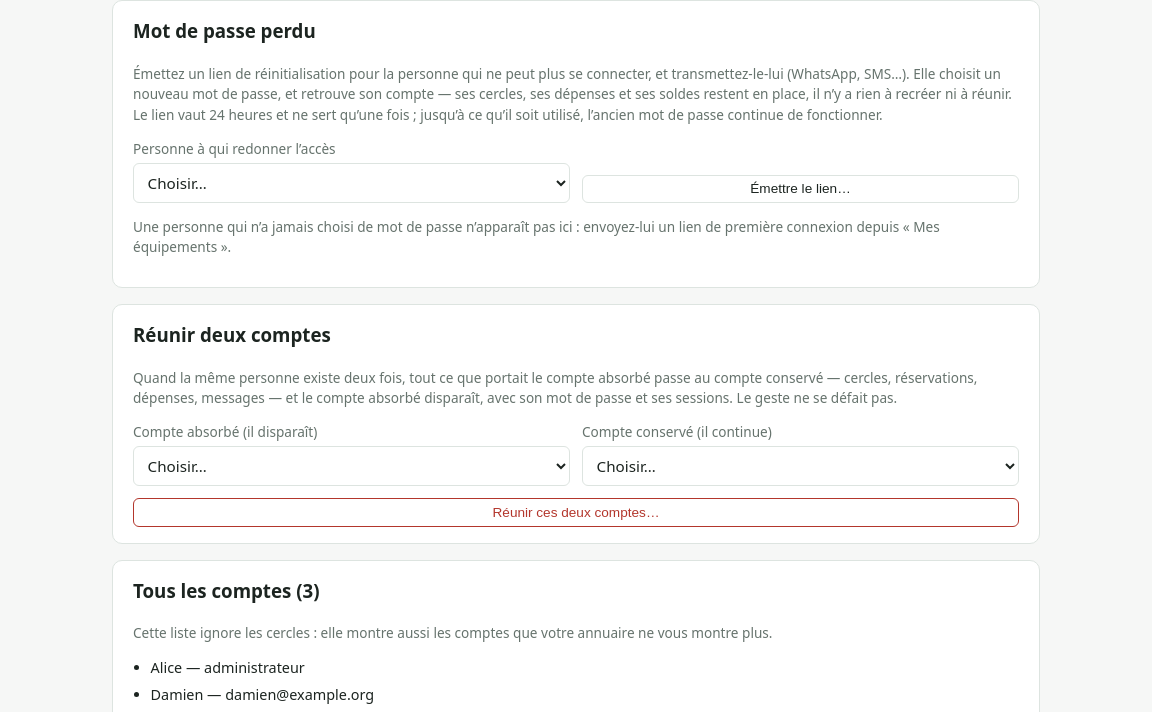
Écran d’administration › affiche le refus du serveur sans rien prétendre avoir fait
This screenshot has width=1152, height=712.
Check: the heading "Tous les comptes (3)" is shown, box [133,578,320,603]
Select "Damien — damien@example.org" in the dropdown labelled "Compte absorbé (il disparaît)": x=352, y=466 [133,446,570,486]
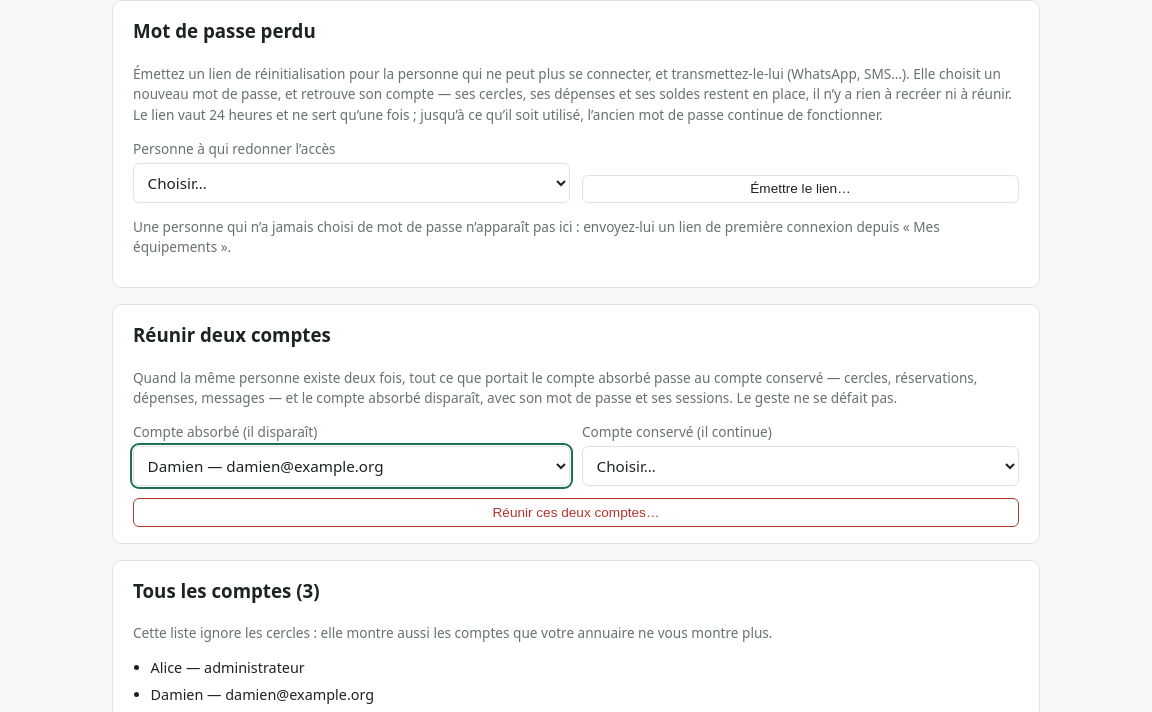
Select "Damien" in the dropdown labelled "Compte conservé (il continue)": x=800, y=466 [582,446,1019,486]
(page scrolled)
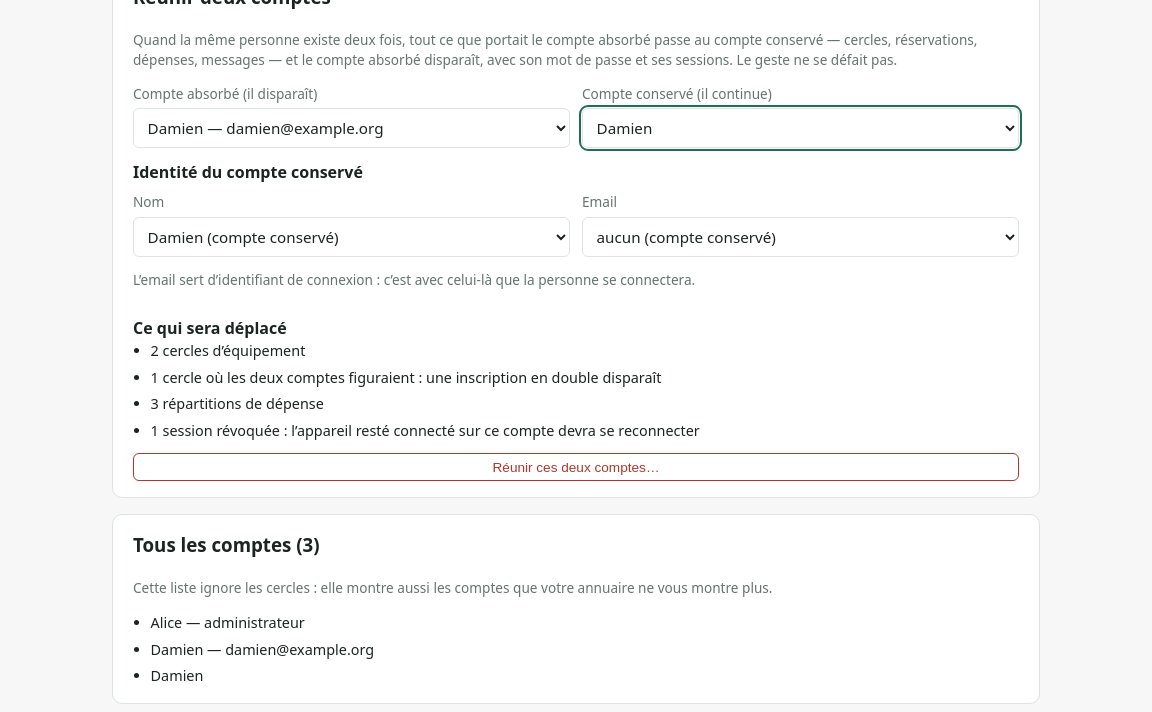
Check: the list item "3 répartitions de dépense" is shown, box [151,394,324,413]
Click the button "Réunir ces deux comptes…": x=576, y=467 [133,453,1019,482]
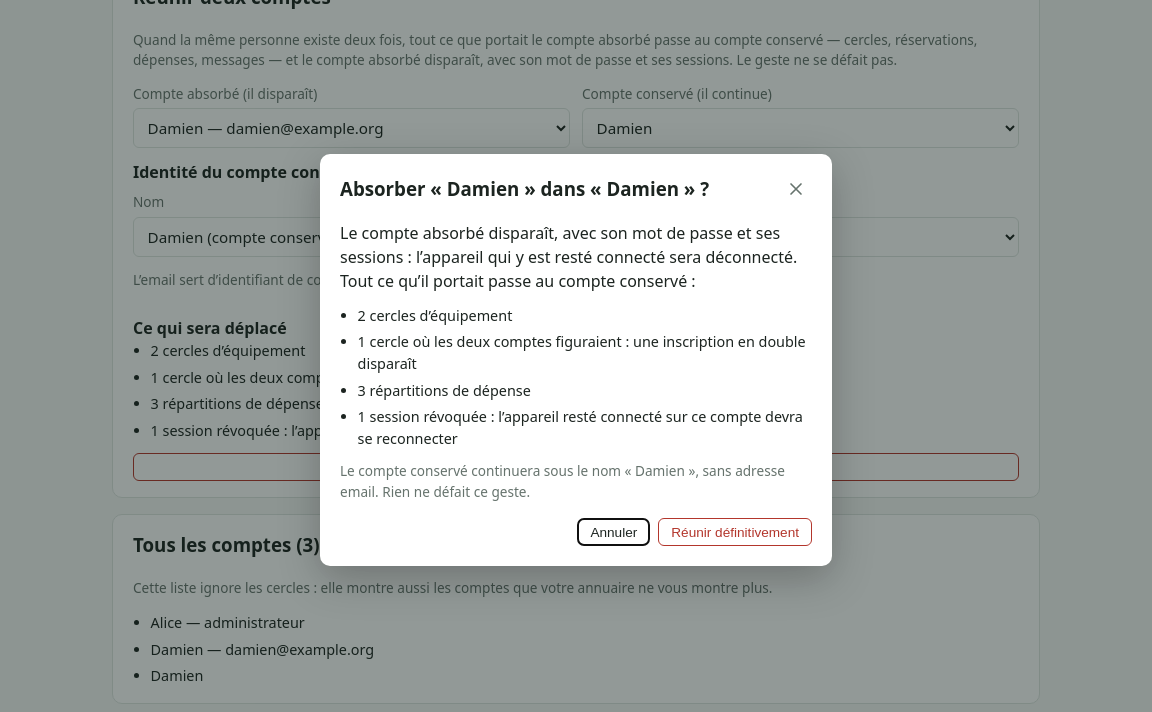
Check: the dialog is shown, box [320,154,832,566]
Click the button "Réunir définitivement": x=735, y=532 [658,518,812,546]
(page scrolled)
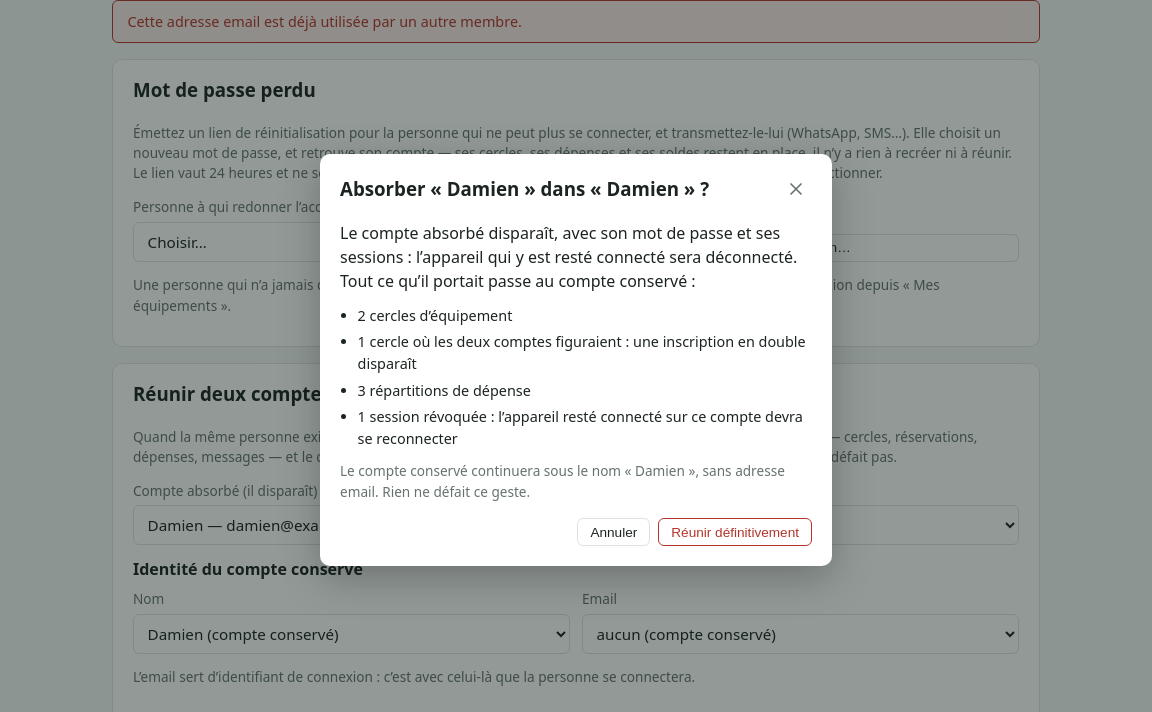
Check: the text "Cette adresse email est déjà utilisée par un autre membre." is shown, box [112,0,1040,43]
